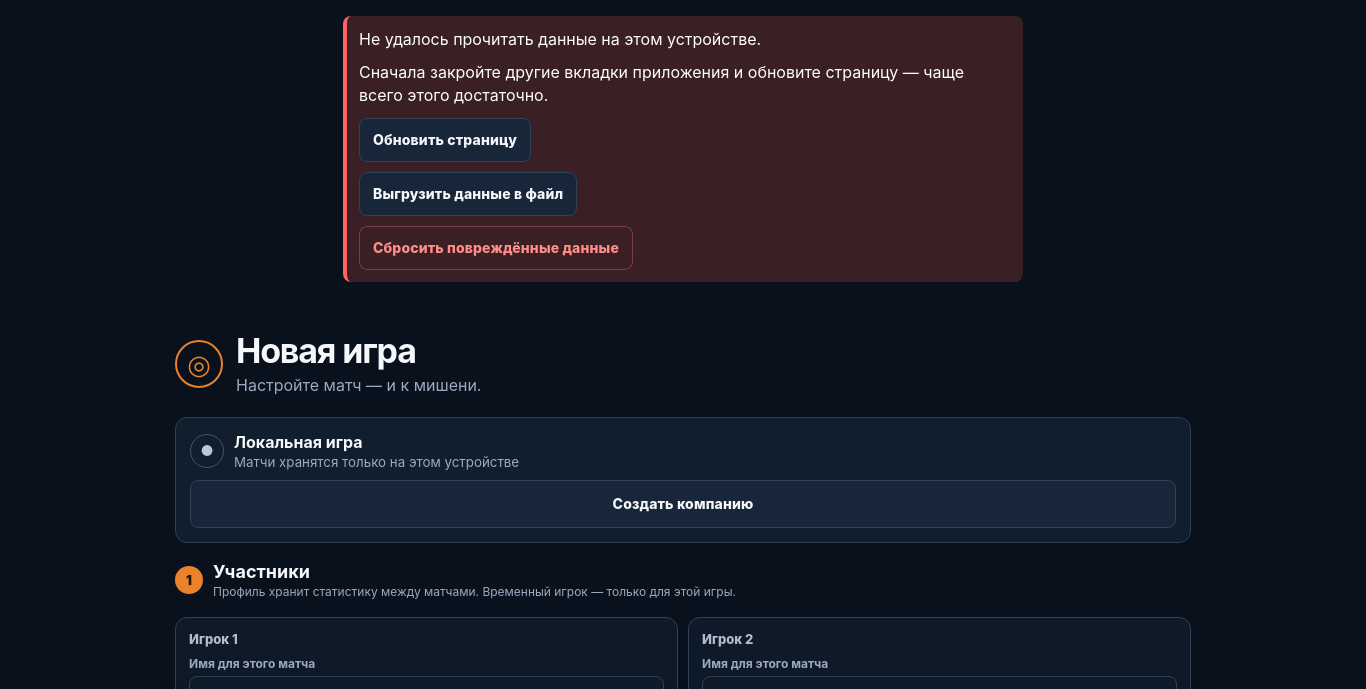
Scenario: erasing local data (DATA-4) › offers a raw dump of whatever is still readable before erasing
The width and height of the screenshot is (1366, 689).
Click the button "Выгрузить данные в файл" at (468, 194), box [359,172,577,216]
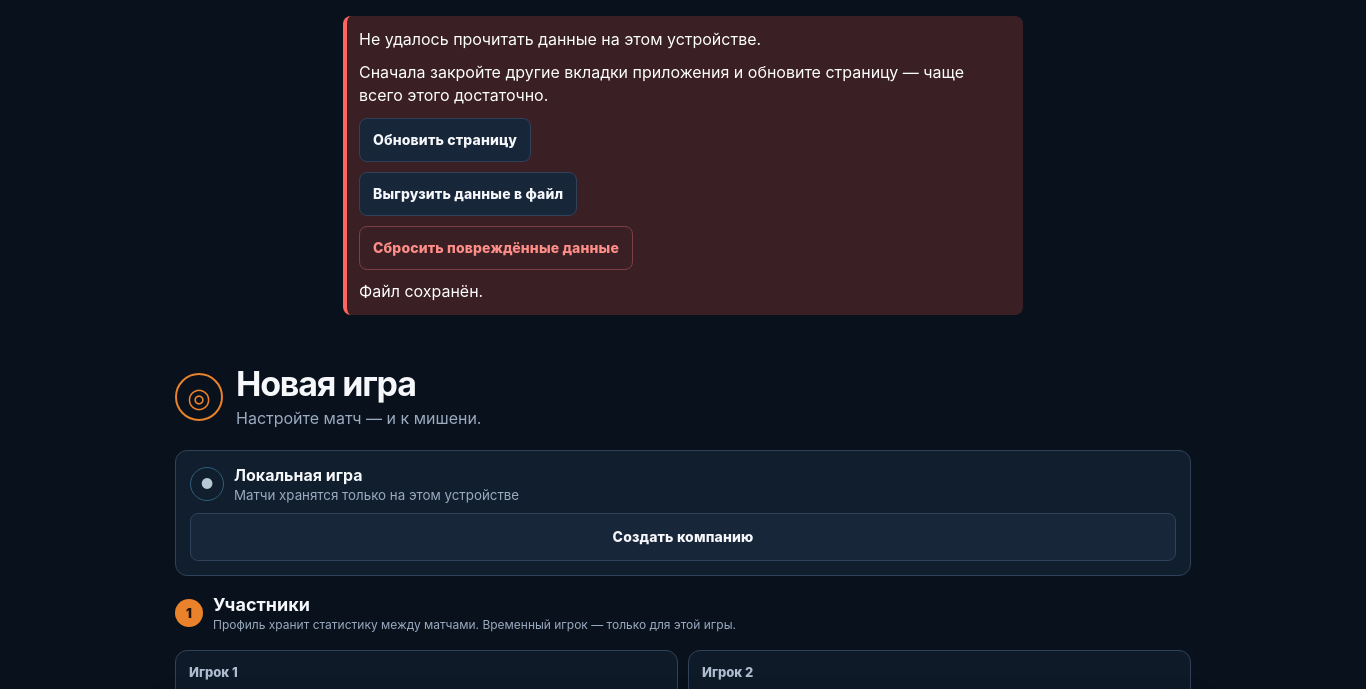
Check: the text "Файл сохранён." is shown, box [359,281,483,301]
